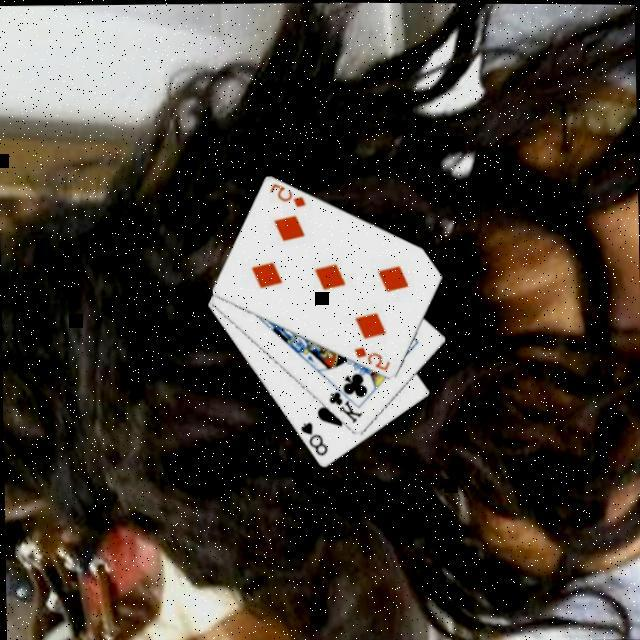5D: (264, 178, 307, 209), (348, 342, 390, 372)
8S: (294, 417, 328, 458)
KC: (322, 380, 363, 424)
